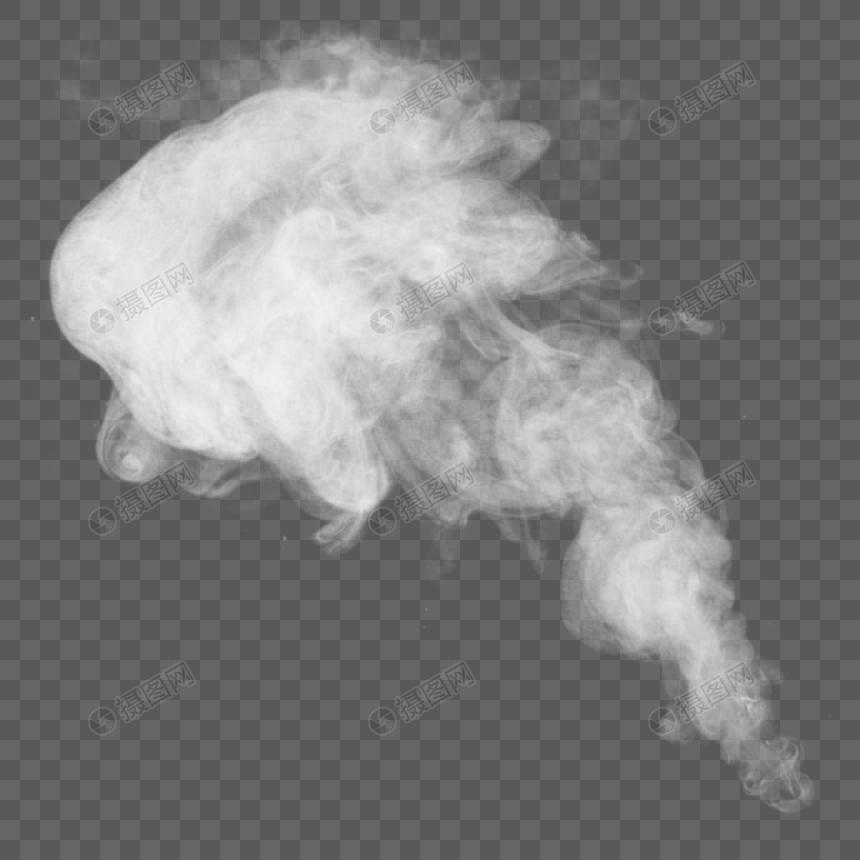smoke: (221, 169, 354, 457), (476, 332, 663, 509), (568, 555, 751, 652), (35, 171, 196, 247), (721, 724, 825, 807)
